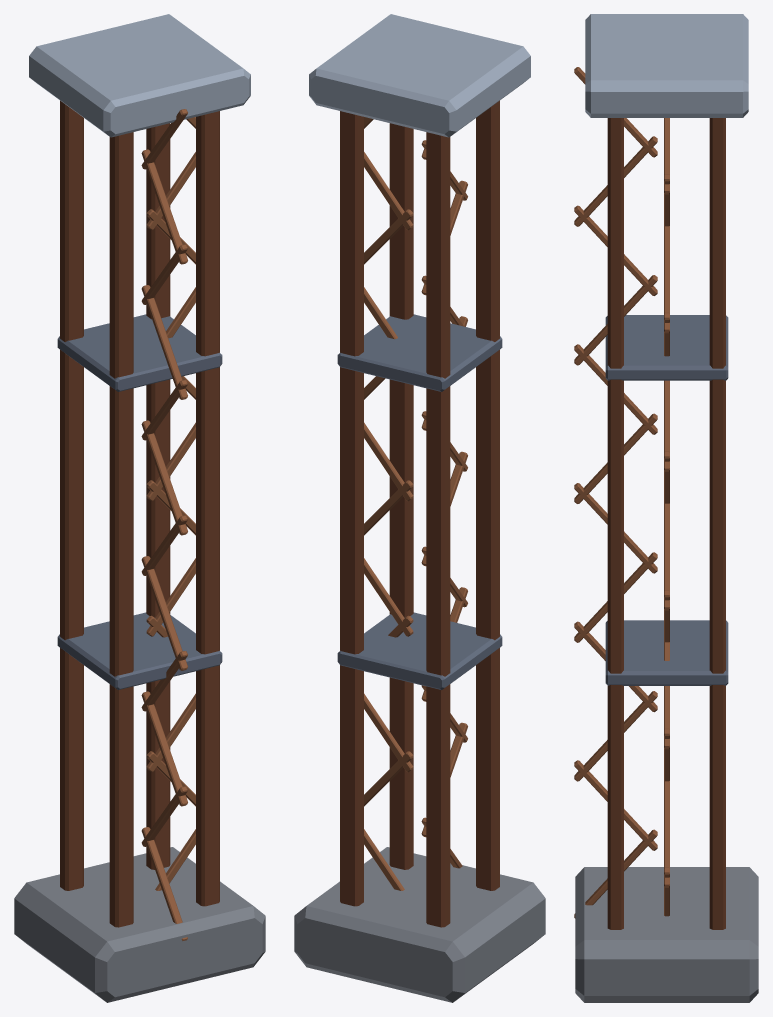
File: switchyard_column.glb
3 views of the same model, side by side, from view 1: azimuth 30°, elevation 25°; view 2: azimuth 150°, elevation 25°; view 3: azimuth 270°, elevation 25° (orthographic). The views are drawn at different scales.
Parts seen in each view (by area): view 1: col_plinth, col_chord-11, col_chord11, col_chord-1-1, col_cap, col_chord1-1, col_batten6.6, col_batten3.3, col_lace60, col_lace80, col_lace100, col_lace20 (+11 smaller); view 2: col_plinth, col_chord-1-1, col_chord1-1, col_chord-11, col_cap, col_chord11, col_batten6.6, col_batten3.3, col_lace61, col_lace101, col_lace21, col_lace41 (+4 smaller); view 3: col_plinth, col_cap, col_chord11, col_chord1-1, col_batten3.3, col_batten6.6, col_lace100, col_lace40, col_lace50, col_lace10, col_lace60, col_lace90 (+11 smaller).
Part boxes in pixels (box(x1,y1,x2,y2)): col_plinth: box(14, 847, 265, 1002); col_chord-11: box(109, 132, 133, 927); col_chord11: box(196, 111, 219, 906); col_chord-1-1: box(60, 100, 83, 890); col_cap: box(29, 14, 250, 137); col_chord1-1: box(146, 123, 170, 869); col_batten6.6: box(57, 314, 222, 391); col_batten3.3: box(57, 612, 222, 689); col_lace60: box(141, 420, 187, 535); col_lace80: box(141, 285, 187, 399); col_lace100: box(141, 149, 187, 264); col_lace20: box(141, 691, 187, 806); col_plinth: box(294, 847, 545, 1002); col_chord-1-1: box(426, 132, 450, 927); col_chord1-1: box(340, 111, 363, 906); col_chord-11: box(476, 100, 499, 890); col_cap: box(309, 14, 530, 137); col_chord11: box(389, 123, 413, 869); col_batten6.6: box(337, 314, 502, 391); col_batten3.3: box(337, 612, 502, 689); col_lace61: box(364, 422, 413, 501); col_lace101: box(364, 152, 413, 230); col_lace21: box(364, 693, 413, 772); col_lace41: box(364, 558, 413, 636); col_plinth: box(575, 867, 758, 1002); col_cap: box(585, 14, 748, 117); col_chord11: box(607, 118, 623, 929); col_chord1-1: box(709, 118, 725, 929); col_batten3.3: box(605, 620, 728, 685); col_batten6.6: box(605, 315, 728, 380); col_lace100: box(574, 136, 657, 226); col_lace40: box(574, 552, 657, 642); col_lace50: box(574, 483, 657, 573); col_lace10: box(574, 760, 657, 850); col_lace60: box(574, 413, 657, 503); col_lace90: box(574, 205, 657, 295).
Size of the model in its own units: 1.98 by 9.94 by 1.81.
